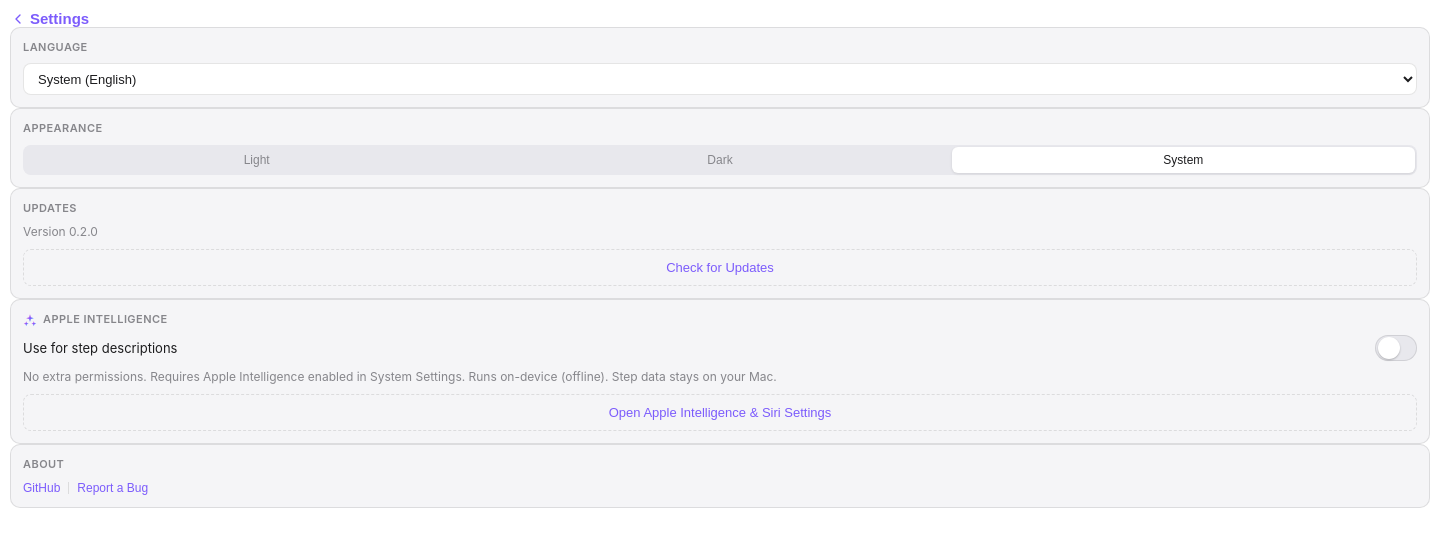
SettingsSheet › checks for updates and shows up-to-date
This screenshot has width=1440, height=549.
Click the button "Check for Updates" at (720, 268), box [23, 249, 1417, 286]
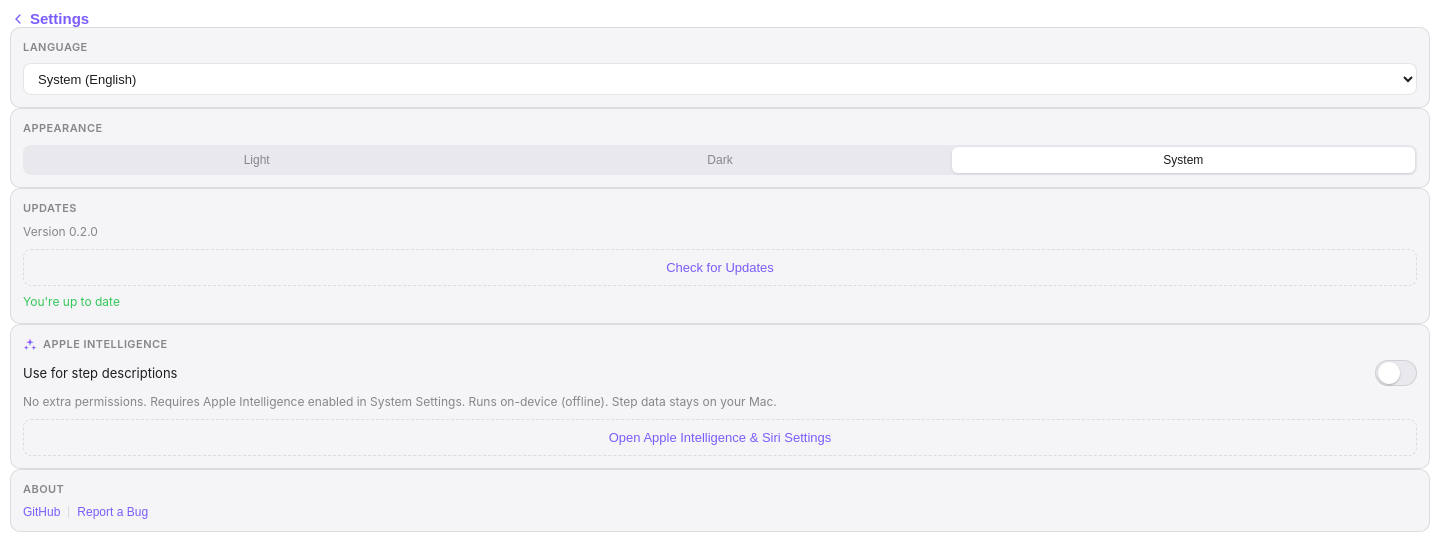
Check: the text "You're up to date" is shown, box [23, 294, 120, 309]
